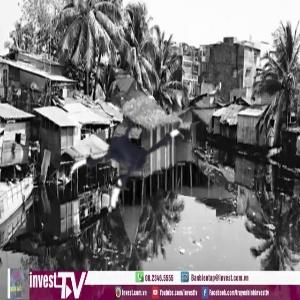drone: (66, 104, 191, 229)
